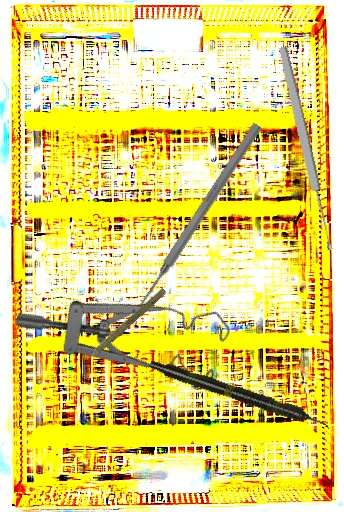Handpiece: (147, 356, 333, 434), (76, 284, 169, 369)
Pusher: (126, 120, 264, 323)
Speculum: (10, 224, 245, 428)
Surgical Spoon: (276, 45, 336, 252)
